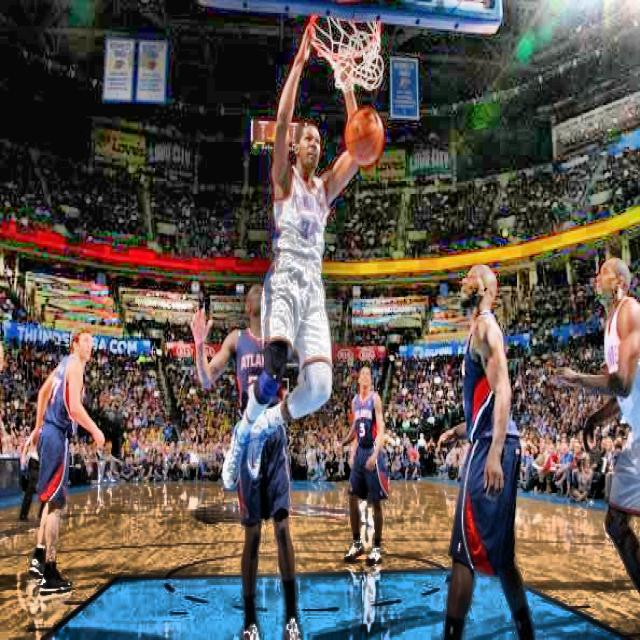board: (345, 107, 384, 165)
rim: (309, 10, 385, 90)
